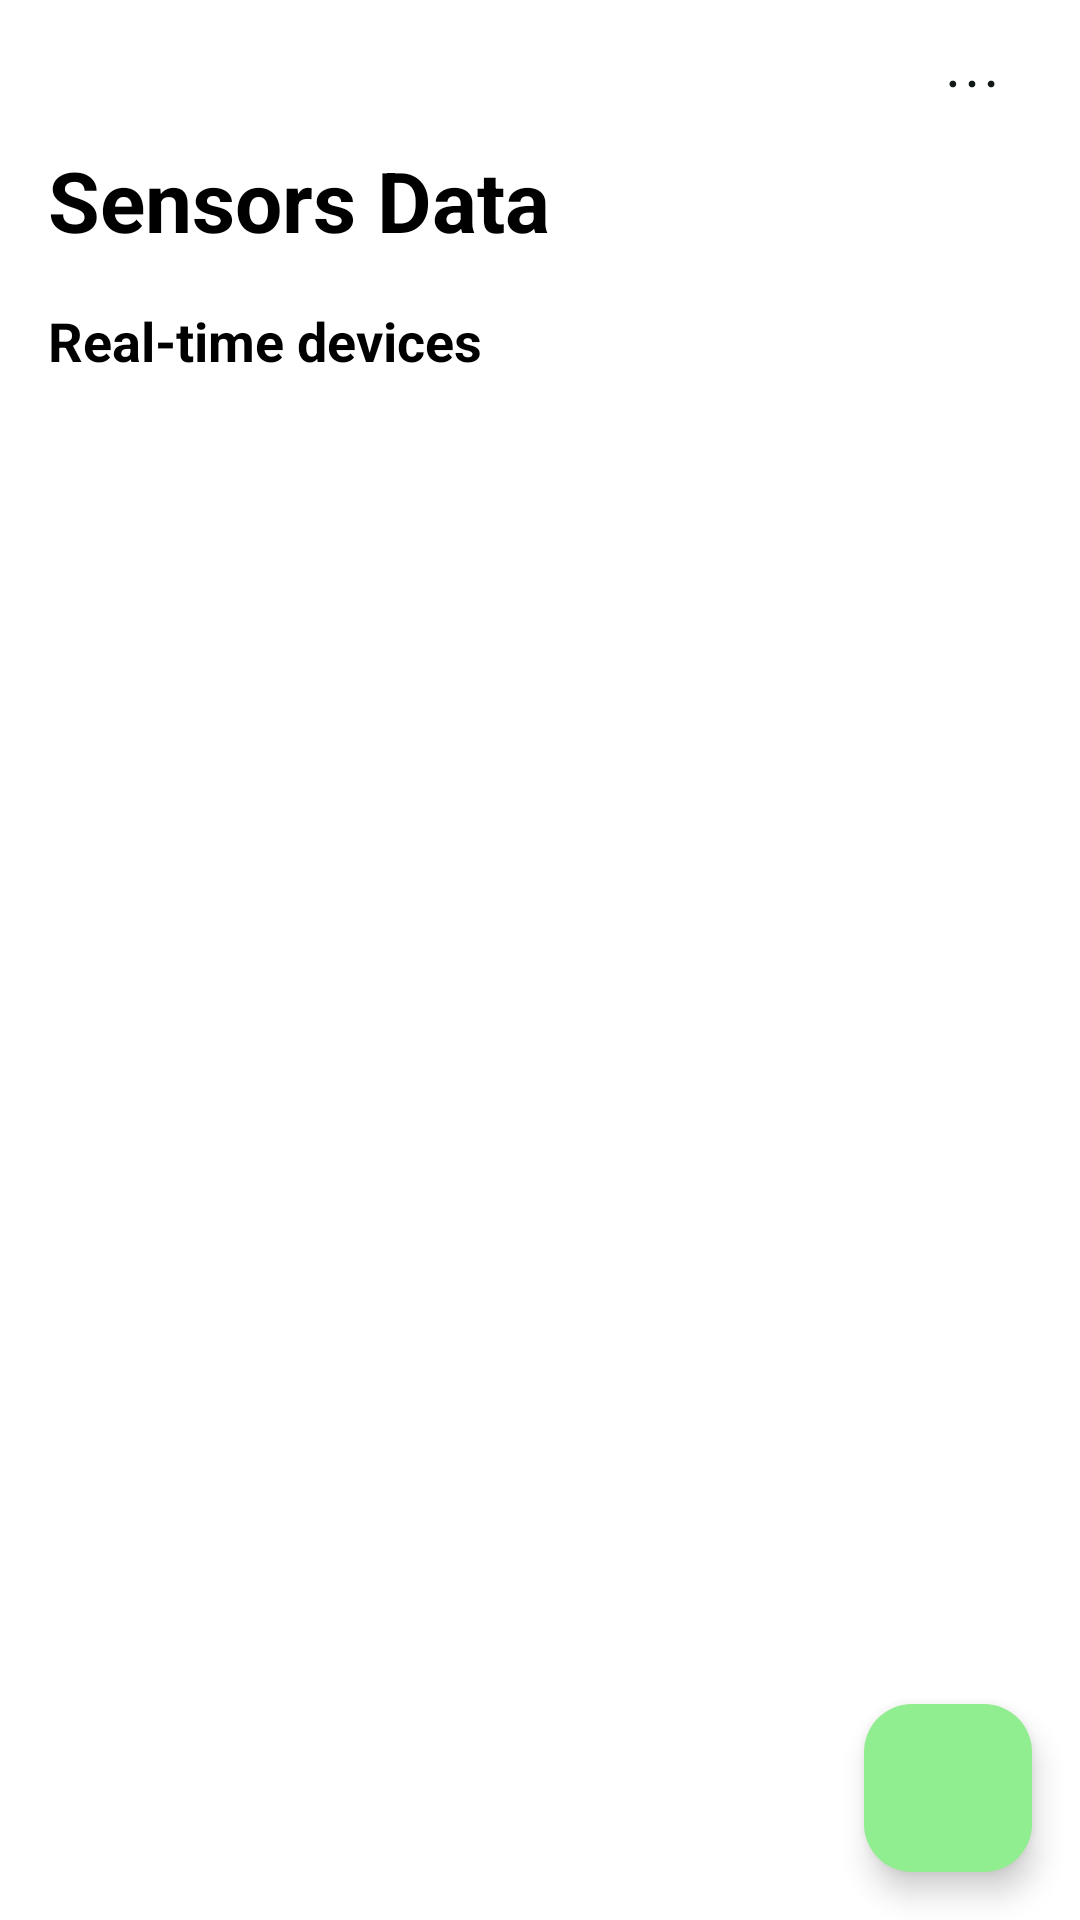

Screen size 1080px x 1920px. Icon name, then its box in pixels as [left=x1, top=y1, right=x2, bottom=y2]:
menu: [left=949, top=80, right=995, bottom=88]
